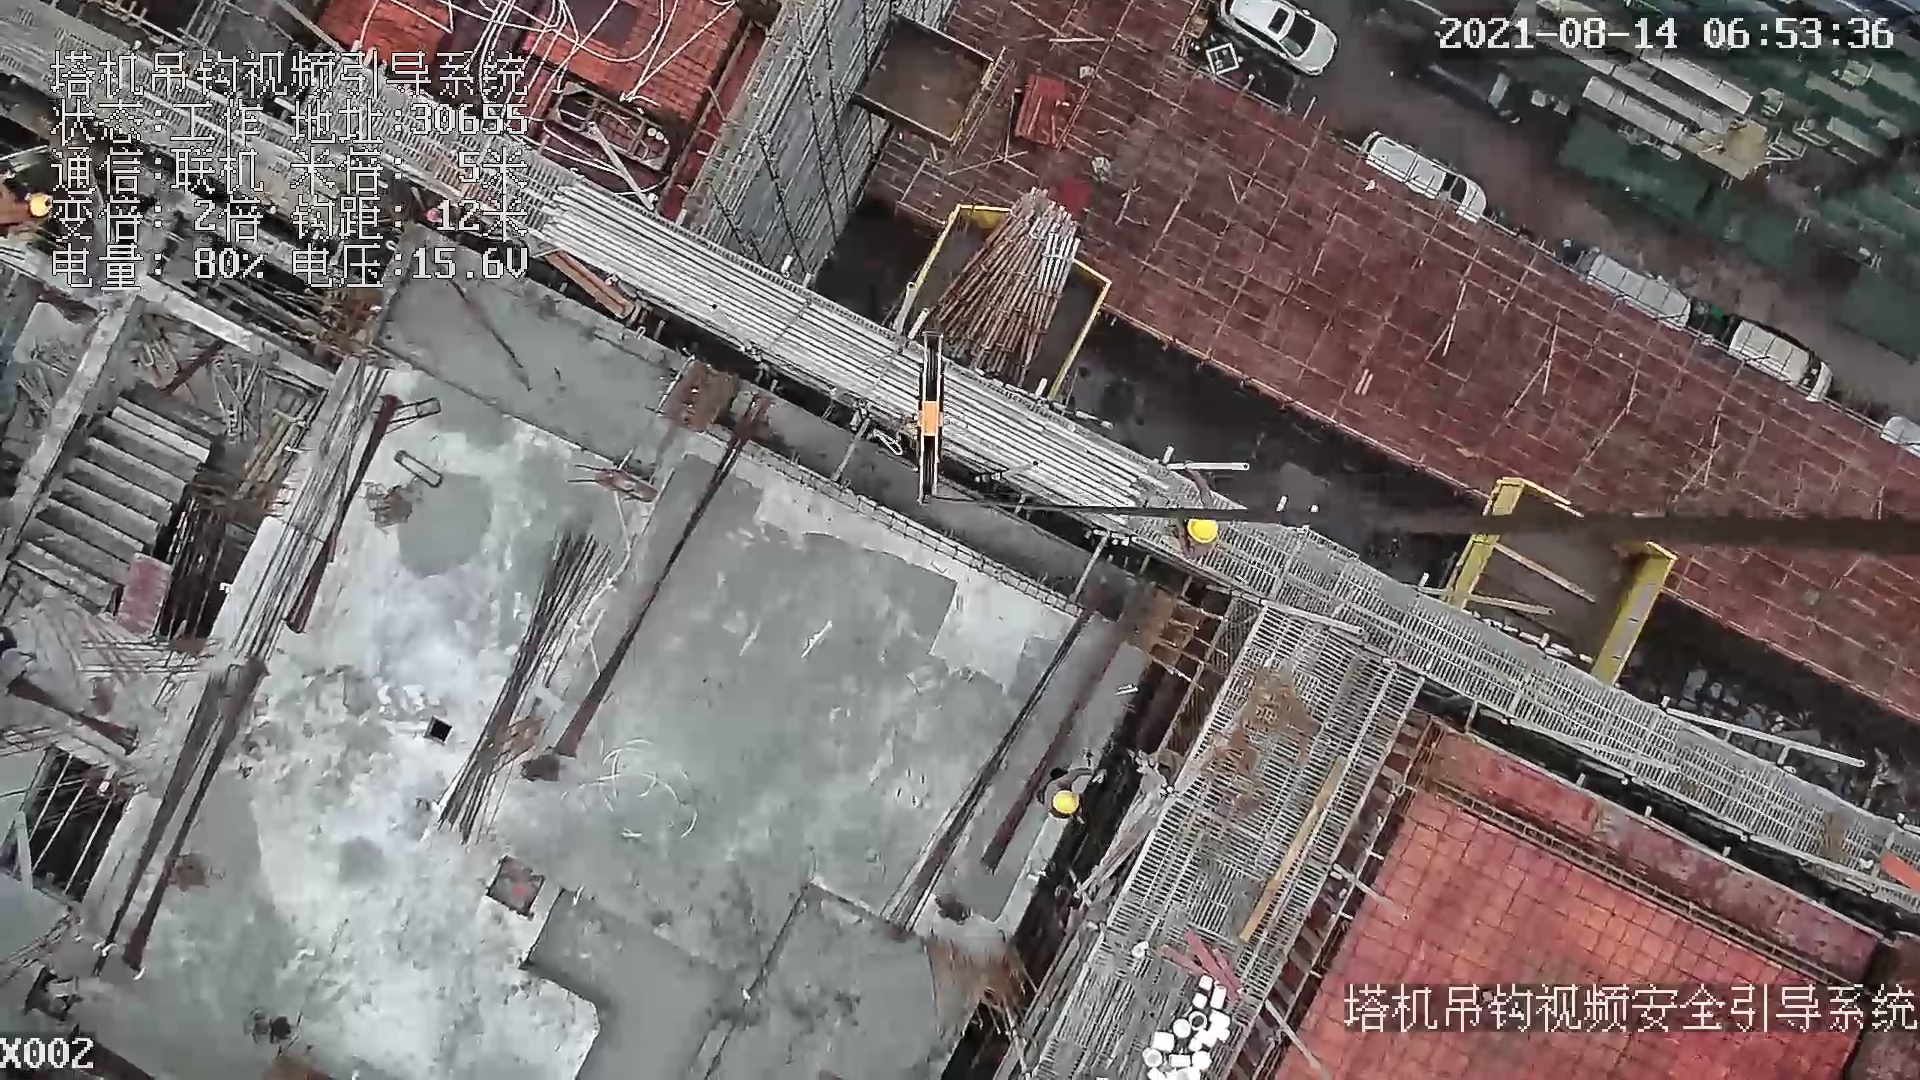helmet: (1187, 517, 1219, 543), (1051, 790, 1080, 814), (29, 191, 54, 217)
hook: (899, 322, 959, 508)
person: (1176, 467, 1223, 562), (1036, 762, 1105, 821)
rebar: (534, 181, 1152, 532), (431, 533, 614, 840)
scaffold: (925, 188, 1079, 391)
